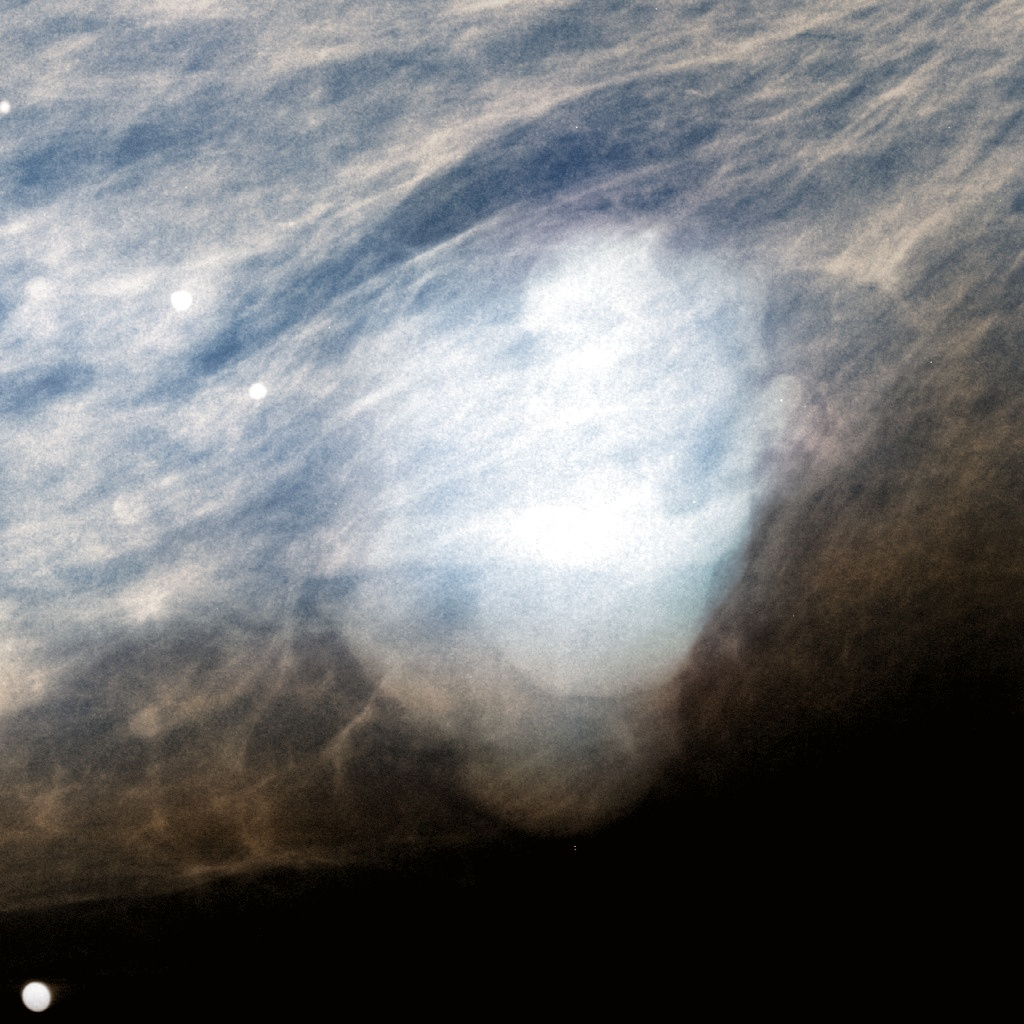tumor: (323, 307, 701, 717)
